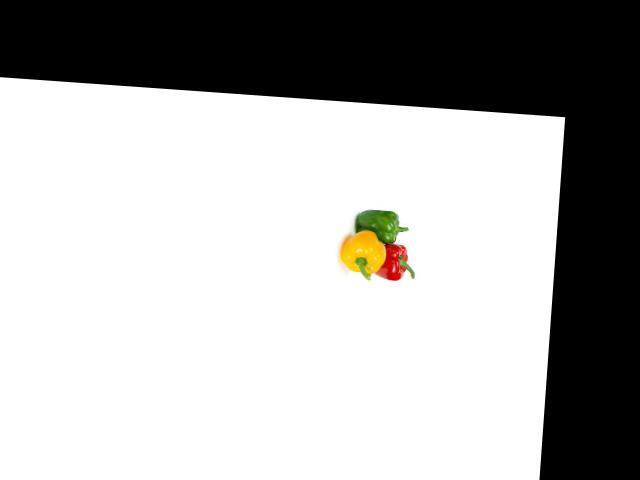bell_pepper: (368, 236, 421, 288)
